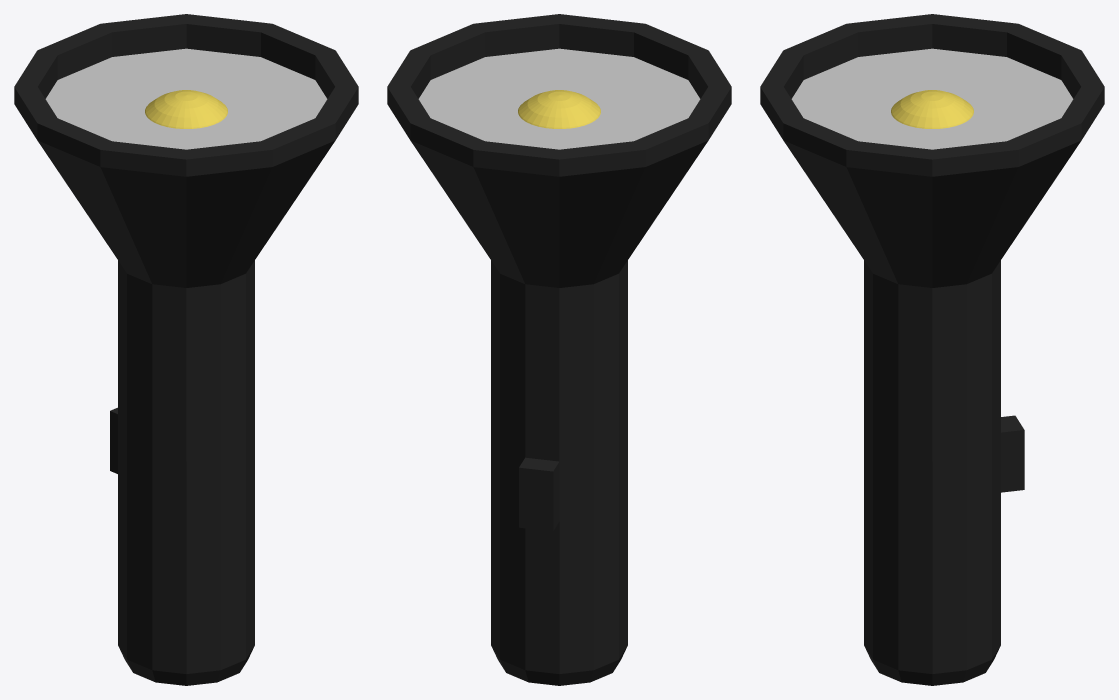
The model's file is Linterna.fbx.
3 views of the same model, side by side, from view 1: azimuth 30°, elevation 25°; view 2: azimuth 150°, elevation 25°; view 3: azimuth 270°, elevation 25° (orthographic).
Parts seen in each view (by area): view 1: Cylinder; view 2: Cylinder; view 3: Cylinder.
Part boxes in pixels (x1,y1,x2,y2): Cylinder: (14,14,358,685); Cylinder: (387,14,731,685); Cylinder: (760,14,1104,685).
Size of the model in its own units: 58.46 by 108 by 58.46.
